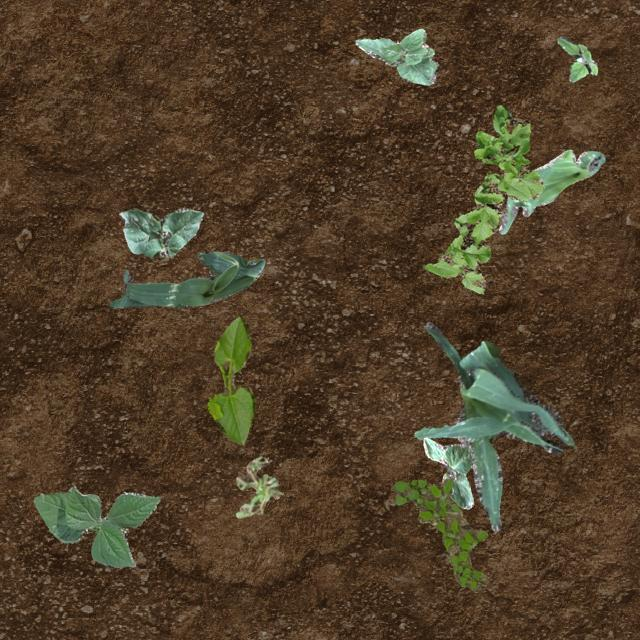crop: (414, 322, 572, 532), (33, 484, 159, 566), (110, 250, 264, 308), (498, 148, 604, 232), (207, 316, 254, 444), (354, 27, 438, 84), (118, 206, 202, 258), (422, 437, 472, 508)
weed: (424, 105, 544, 292), (392, 478, 486, 592), (235, 456, 282, 518), (556, 34, 596, 80)
